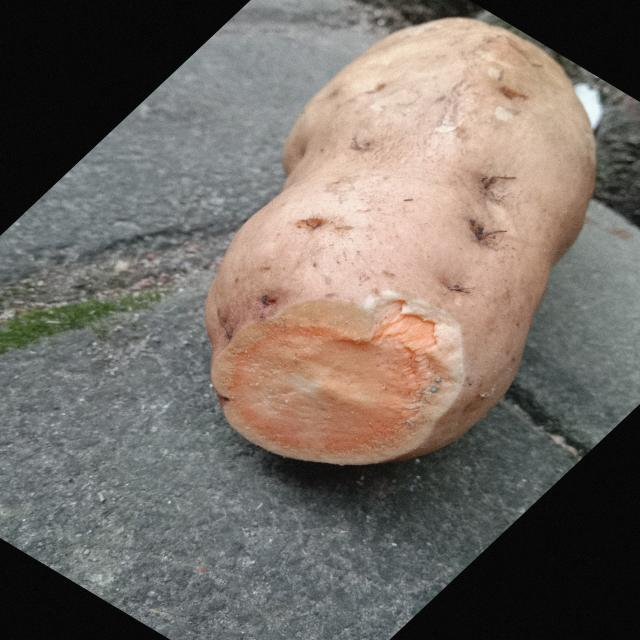Healthy Sweet Potato: (212, 296, 465, 464)
